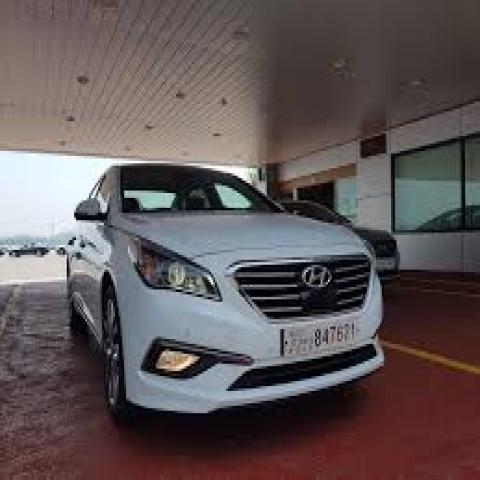LP: (278, 313, 371, 362)
